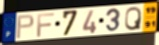3: (104, 7, 123, 33)
4: (81, 8, 98, 34)
7: (61, 10, 79, 38)
F: (36, 12, 56, 38)
P: (15, 13, 36, 40)
Q: (124, 6, 143, 32)
